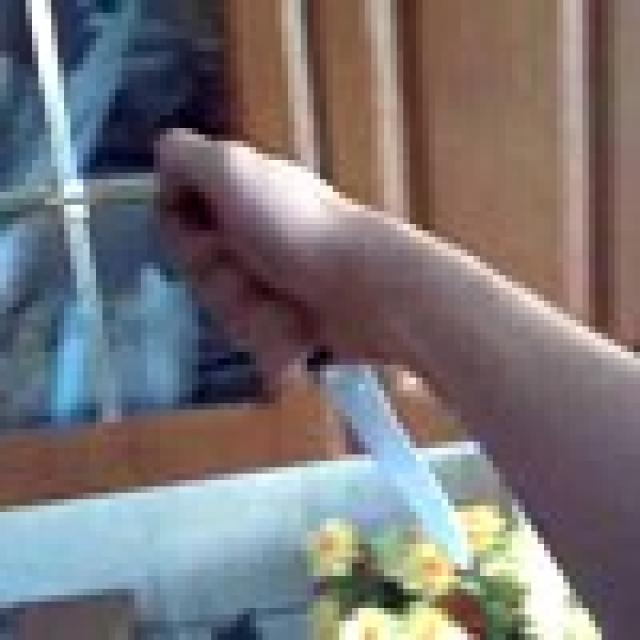Knife: (173, 179, 480, 570)
